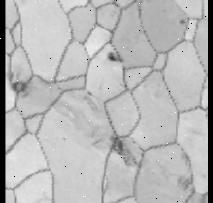good_void: (113, 137, 139, 167), (176, 173, 193, 190), (10, 78, 27, 95), (106, 51, 120, 63), (59, 134, 68, 143), (83, 91, 94, 97), (178, 17, 185, 25)
